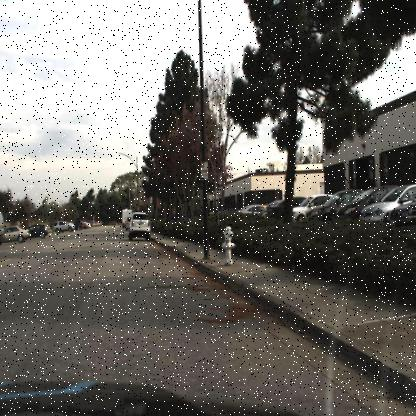car: (304, 189, 348, 221), (290, 192, 331, 222), (293, 192, 323, 225), (263, 197, 298, 219), (127, 212, 152, 241), (3, 224, 33, 245), (26, 220, 50, 242), (50, 218, 76, 235)
